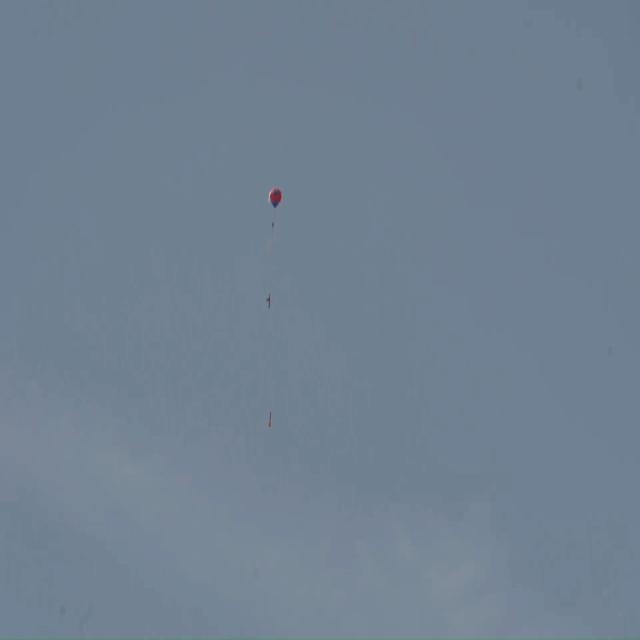Rocket: (268, 411, 272, 427)
